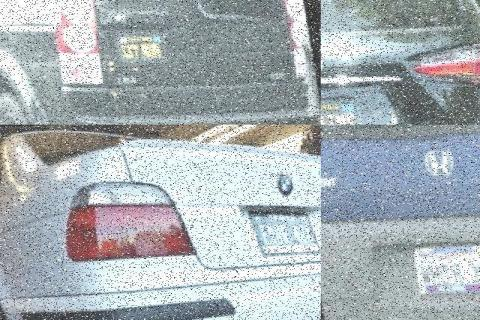LicensePlate: (412, 238, 480, 300), (245, 209, 319, 253), (114, 27, 167, 67), (321, 90, 365, 124)
